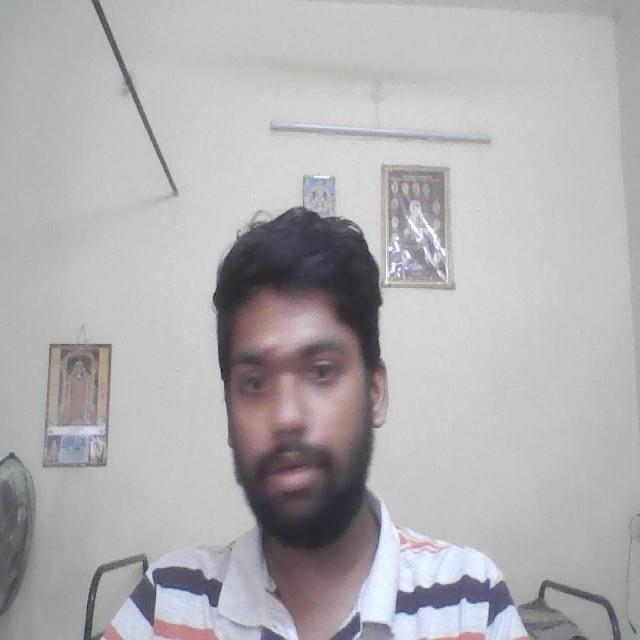Focused: (226, 283, 362, 508)
